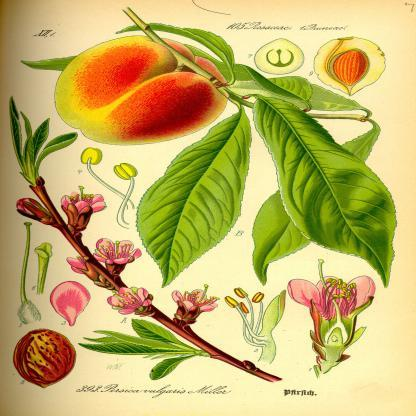Peach leaf: (244, 91, 399, 287), (132, 102, 254, 290)
